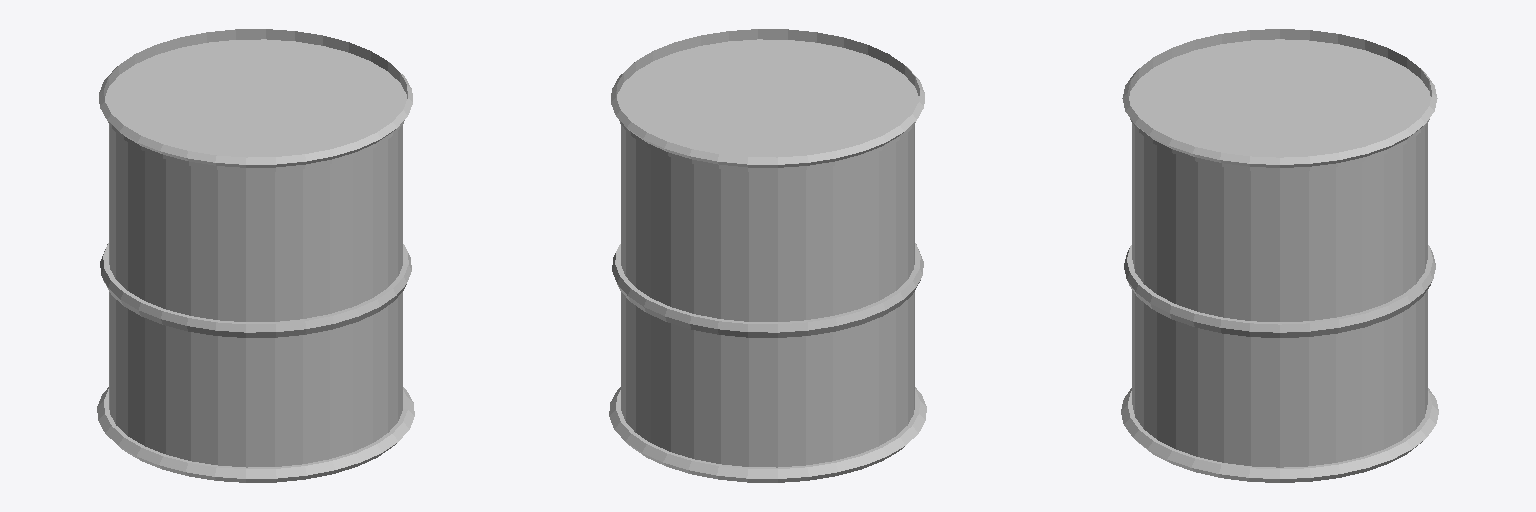
The model's file is gas.obj.
3 renders of one model, left to right at view 1: azimuth 30°, elevation 25°; view 2: azimuth 150°, elevation 25°; view 3: azimuth 270°, elevation 25°, orthographic.
Parts seen in each view (by area): view 1: Cylinder; view 2: Cylinder; view 3: Cylinder.
Part boxes in pixels (x1,y1,x2,y2): Cylinder: (97,29,414,482); Cylinder: (609,29,926,482); Cylinder: (1121,29,1438,482).
Bounding box in the file's own units: 2.16 × 2.43 × 2.16.